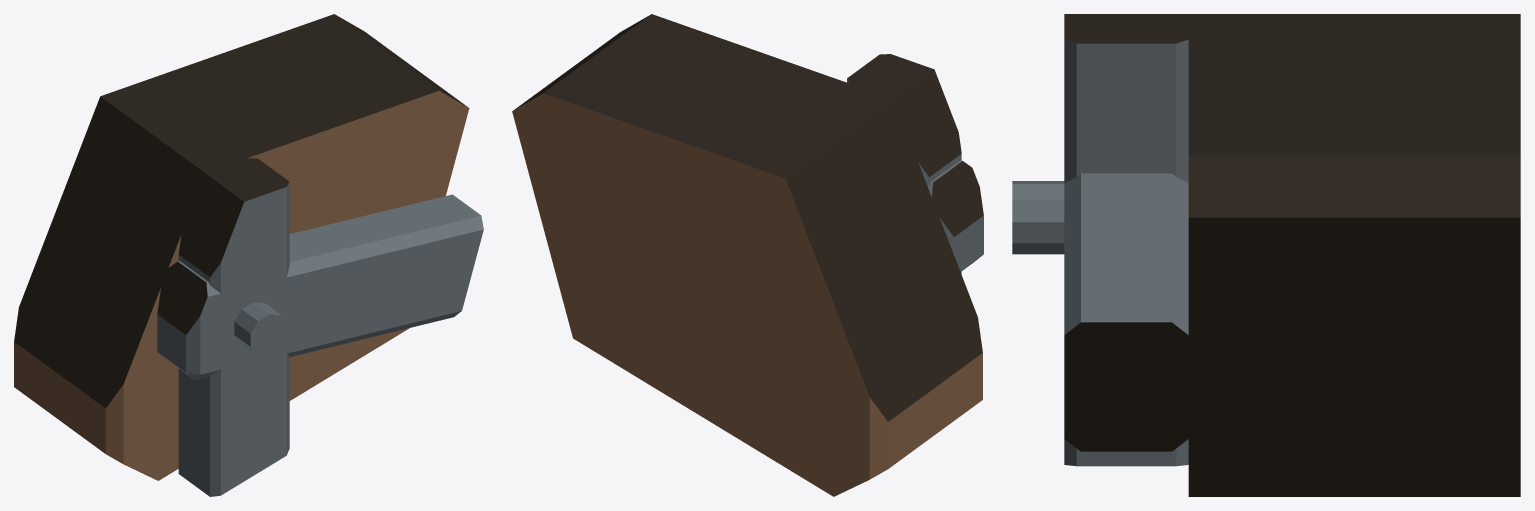
Rendered from SM_DoorShard_02_46.fbx.
3 renders of one model, left to right at view 1: azimuth 30°, elevation 25°; view 2: azimuth 150°, elevation 25°; view 3: azimuth 270°, elevation 25°, orthographic. The views are drawn at different scales.
Visible parts, largest first — view 1: SM_DoorShard_02_46; view 2: SM_DoorShard_02_46; view 3: SM_DoorShard_02_46.
Part boxes in pixels (box(x1,y1,x2,y2)): SM_DoorShard_02_46: box(14, 14, 483, 496); SM_DoorShard_02_46: box(512, 14, 983, 496); SM_DoorShard_02_46: box(1012, 14, 1520, 496).
Size of the model in its own units: 31.47 by 24.5 by 27.1.
